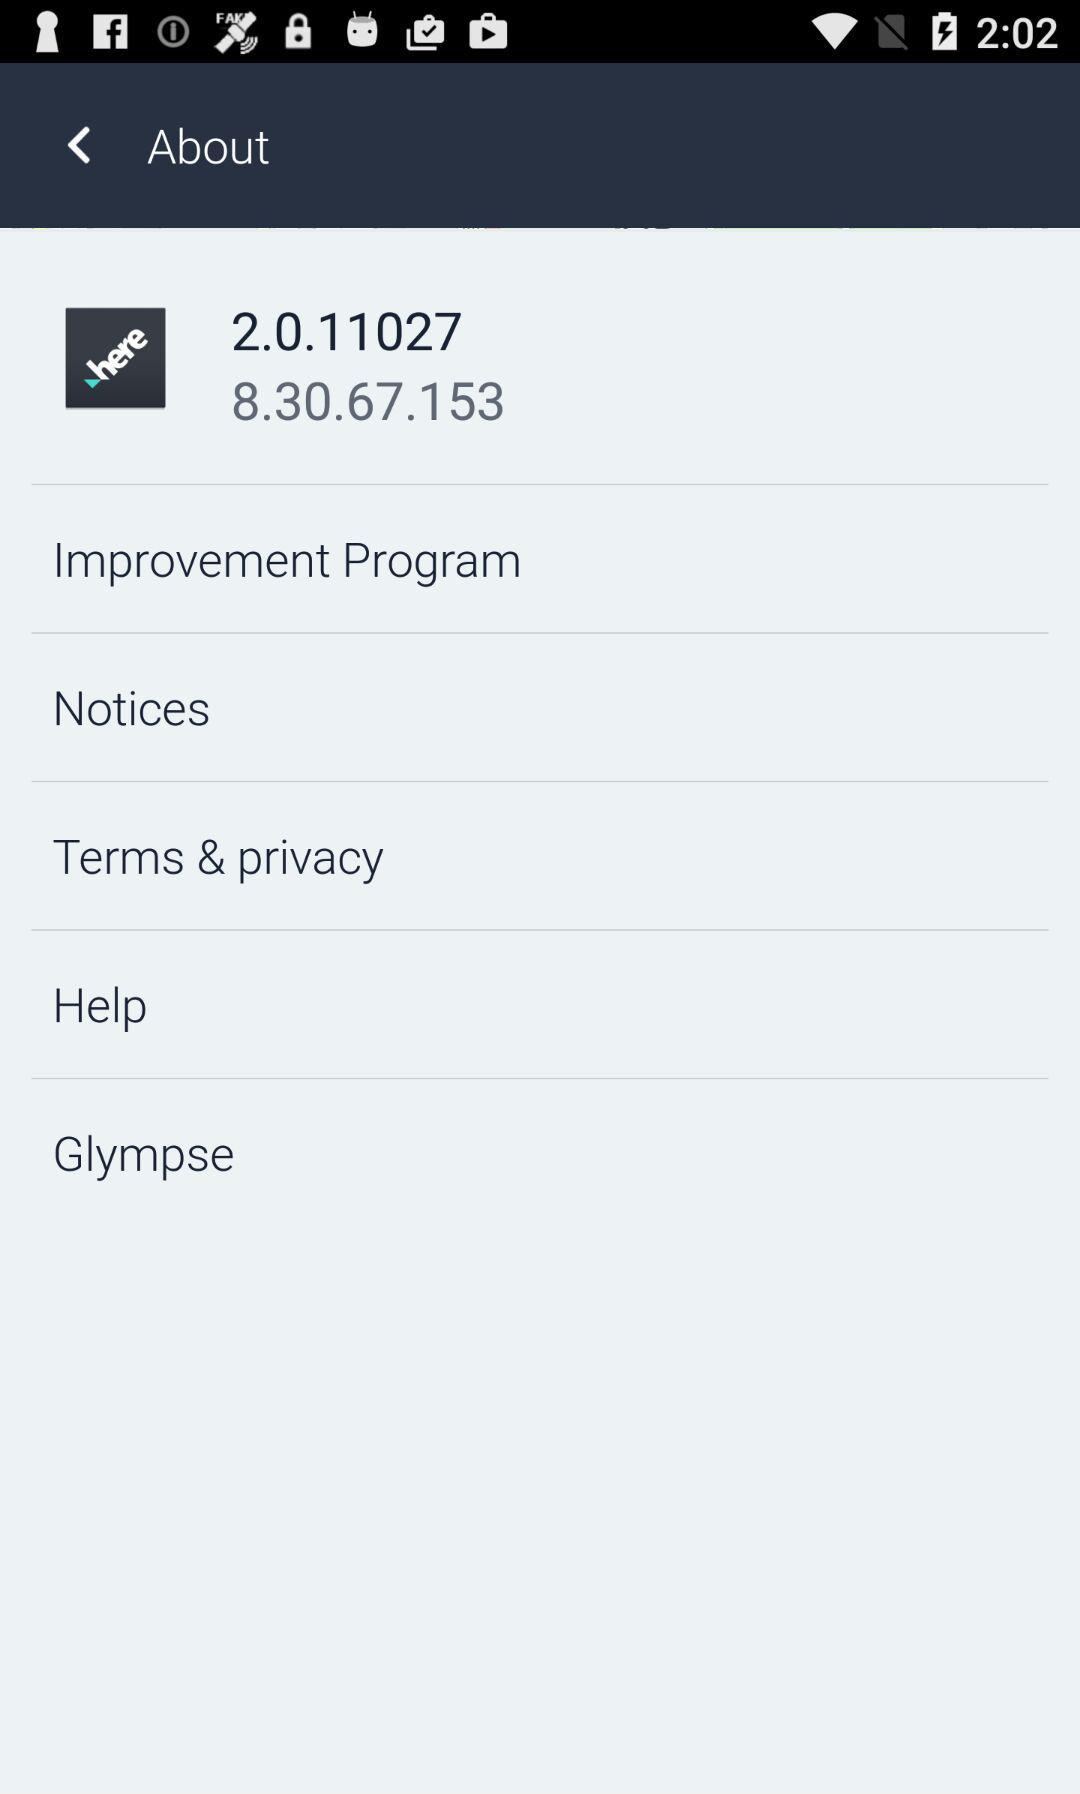Icon: (67, 126, 94, 167)
Image: (67, 308, 168, 410)
Text: (56, 542, 521, 589), (53, 838, 386, 885), (233, 381, 505, 423), (232, 311, 462, 354), (55, 1134, 234, 1183), (55, 689, 211, 728), (146, 126, 272, 168), (55, 985, 149, 1034)
Toolbar: (1, 64, 1080, 229)
UpperTaskBar: (1, 1, 1080, 64)
